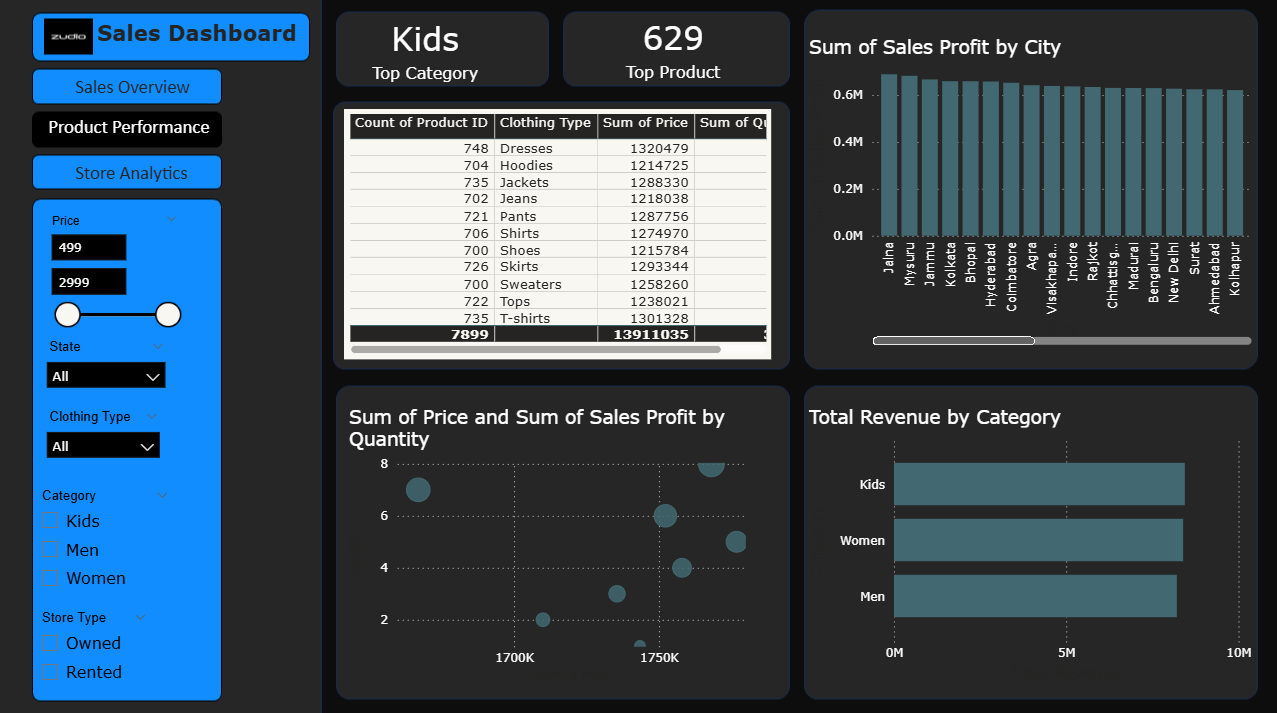

The dashboard page shown, as its layout file describes it:
{"tool":"powerbi","page":{"name":"page 2","canvas":[1280,720],"ordinal":1},"visuals":[{"type":"card","fields":{"Values":["Zudio_sales_data.Top Category"]},"box":[330.5,11,192.7,78],"z":0},{"type":"card","fields":{"Values":["Zudio_sales_data.Top Product"]},"box":[593.3,10.7,161.3,76],"z":1000},{"type":"textbox","box":[37.5,70.8,183.3,40.3],"z":2000},{"type":"textbox","box":[40.3,111.1,205.6,44.4],"z":3000},{"type":"textbox","box":[37.5,156.9,183.3,37.5],"z":4000},{"type":"slicer","fields":{"Values":["Zudio_sales_data.State"]},"box":[37.8,335.1,139.2,71.6],"z":5000},{"type":"slicer","fields":{"Values":["Zudio_sales_data.Store Type"]},"box":[30.5,606.1,129.3,93.9],"z":6000},{"type":"slicer","fields":{"Values":["Zudio_sales_data.Category"]},"box":[30.5,484.1,151.2,128],"z":7000},{"type":"slicer","fields":{"Values":["Zudio_sales_data.Clothing Type"]},"box":[37.5,405.6,133.3,65.3],"z":8000},{"type":"tableEx","fields":{"Values":["CountNonNull(Zudio_sales_data.Product ID)","Zudio_sales_data.Clothing Type","Sum(Zudio_sales_data.Price)","Sum(Zudio_sales_data.Quantity)"]},"box":[344.6,109.5,427,250],"z":9000},{"type":"barChart","fields":{"Category":["Zudio_sales_data.Category"],"Y":["Zudio_sales_data.Total Revenue"]},"box":[805.4,406.8,452.7,281.1],"z":10000},{"type":"scatterChart","fields":{"Size":["Sum(Zudio_sales_data.Sales Profit)"],"X":["Sum(Zudio_sales_data.Price)"],"Y":["Zudio_sales_data.Quantity"]},"box":[344.6,406.8,427,281.1],"z":11000},{"type":"columnChart","fields":{"Category":["Zudio_sales_data.City"],"Y":["Sum(Zudio_sales_data.Sales Profit)"]},"box":[805.4,36.5,452.7,314.9],"z":12000},{"type":"slicer","fields":{"Values":["Zudio_sales_data.Price"]},"box":[40.5,209.5,150,125.7],"z":13000},{"type":"textbox","box":[9.3,10.5,301.2,48.8],"z":14000},{"type":"actionButton","box":[45.8,68.1,166.7,38.9],"z":15000},{"type":"actionButton","box":[40.3,155.6,166.7,38.9],"z":16000}]}

Visuals, with their boxes in screenshot pixels (x1, y1, x2, y2), scaled from the page's 1280x720 canvas onto the 1277x713 screenshot:
card - Zudio_sales_data.Top Category: [left=330, top=11, right=522, bottom=88]
card - Zudio_sales_data.Top Product: [left=592, top=11, right=753, bottom=86]
textbox: [left=37, top=70, right=220, bottom=110]
textbox: [left=40, top=110, right=245, bottom=154]
textbox: [left=37, top=155, right=220, bottom=193]
slicer - Zudio_sales_data.State: [left=38, top=332, right=177, bottom=403]
slicer - Zudio_sales_data.Store Type: [left=30, top=600, right=159, bottom=693]
slicer - Zudio_sales_data.Category: [left=30, top=479, right=181, bottom=606]
slicer - Zudio_sales_data.Clothing Type: [left=37, top=402, right=170, bottom=466]
tableEx - CountNonNull(Zudio_sales_data.Product ID) x Zudio_sales_data.Clothing Type: [left=344, top=108, right=770, bottom=356]
barChart - Zudio_sales_data.Category x Zudio_sales_data.Total Revenue: [left=804, top=403, right=1255, bottom=681]
scatterChart - Sum(Zudio_sales_data.Sales Profit) x Sum(Zudio_sales_data.Price): [left=344, top=403, right=770, bottom=681]
columnChart - Zudio_sales_data.City x Sum(Zudio_sales_data.Sales Profit): [left=804, top=36, right=1255, bottom=348]
slicer - Zudio_sales_data.Price: [left=40, top=207, right=190, bottom=332]
textbox: [left=9, top=10, right=310, bottom=59]
actionButton: [left=46, top=67, right=212, bottom=106]
actionButton: [left=40, top=154, right=207, bottom=193]
